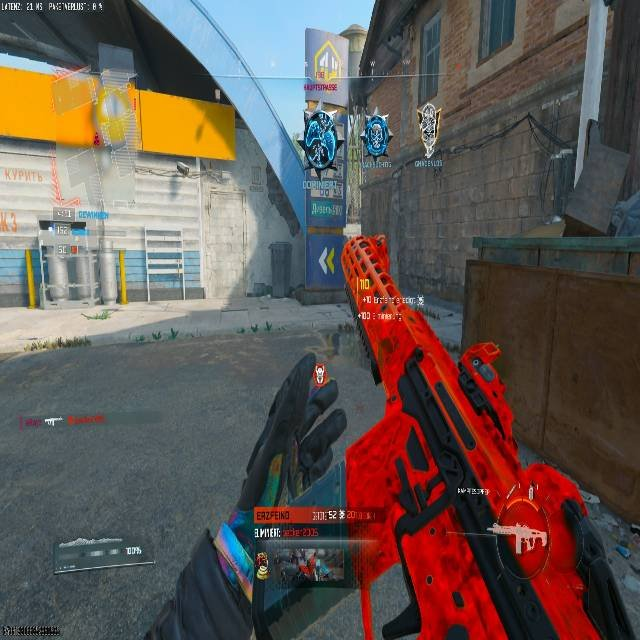head: (307, 109, 323, 126)
player: (300, 109, 339, 175)
